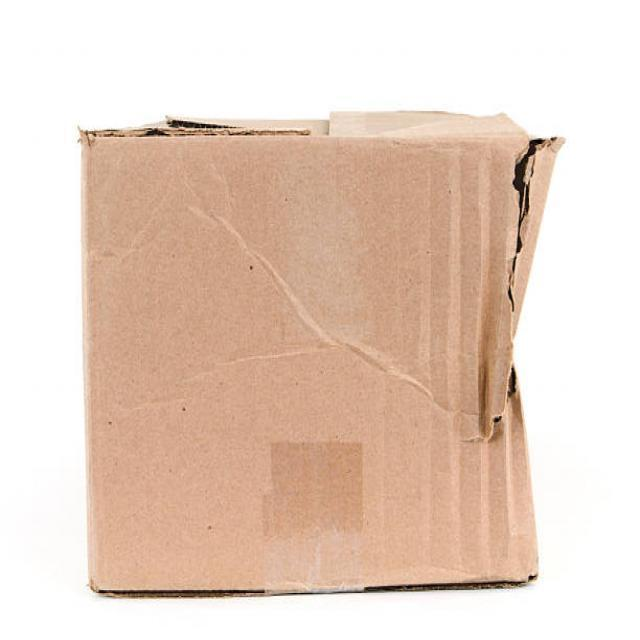damaged: (503, 138, 556, 309), (486, 362, 520, 445)
